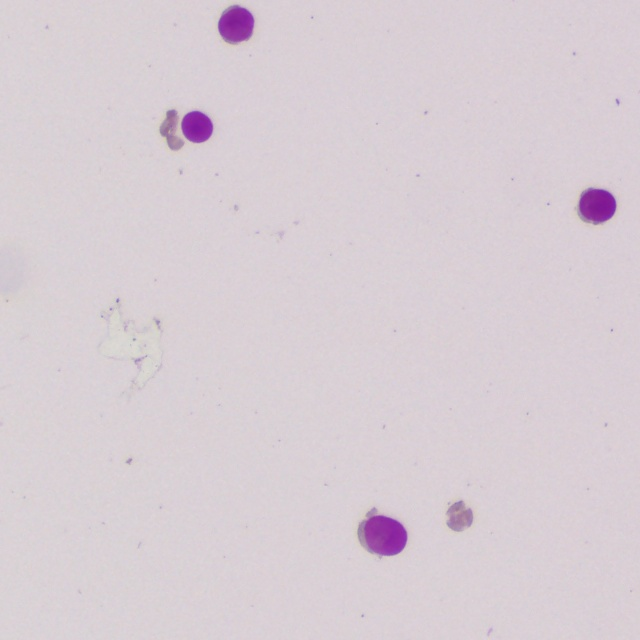viable: (365, 516, 406, 555), (219, 6, 254, 43), (580, 189, 615, 223), (182, 112, 212, 142)
